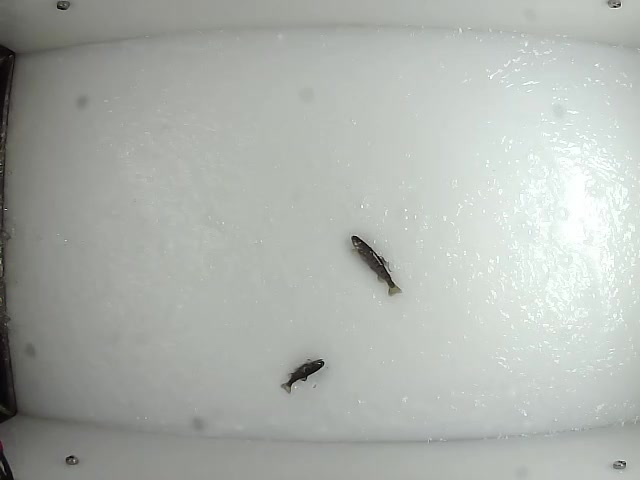fish: (352, 235, 403, 297), (278, 356, 327, 395)
